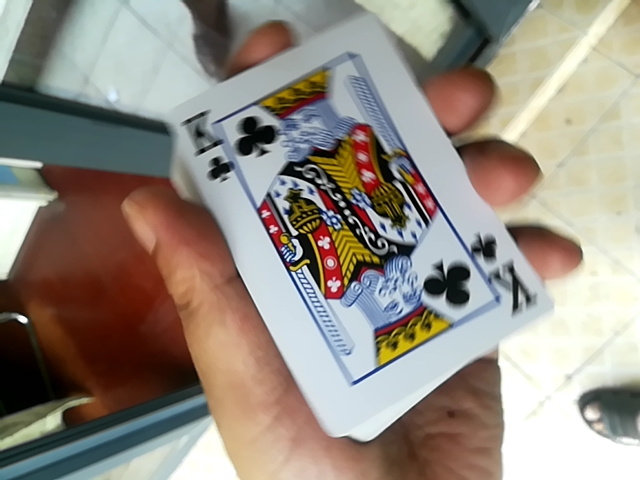mh k: (148, 4, 544, 450)
